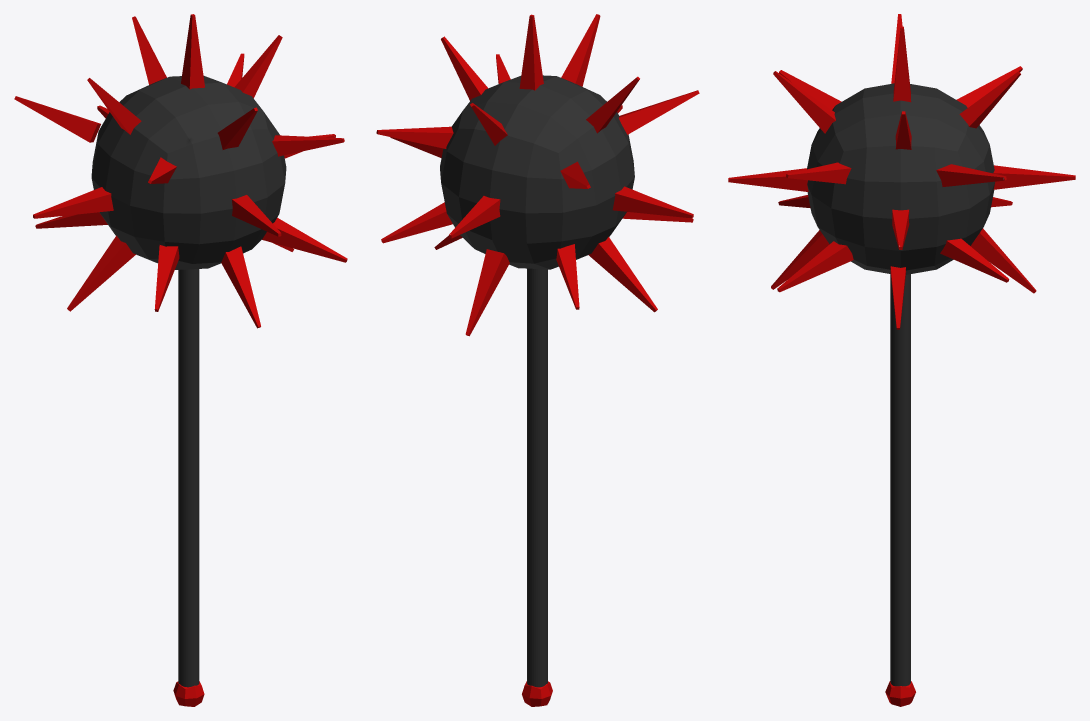
Rendered from boss_weapon.obj.
3 views of the same model, side by side, from view 1: azimuth 30°, elevation 25°; view 2: azimuth 150°, elevation 25°; view 3: azimuth 270°, elevation 25° (orthographic).
Visible parts, largest first — view 1: Cube, Cylinder, Cube.016, Cube.014, Cube.022, Cube.010, Cube.019, Cube.007, Cube.017, Cube.004, Cube.021, Cube.002 (+5 smaller); view 2: Cube, Cylinder, Cube.003, Cube.016, Cube.014, Cube.007, Cube.011, Cube.018, Cube.008, Cube.013, Cube.009, Cube.004 (+5 smaller); view 3: Cube, Cylinder, Cube.022, Cube.009, Cube.003, Cube.008, Cube.013, Cube.002, Cube.006, Cube.018, Cube.017, Cube.007 (+5 smaller).
Boxes of the visible parts, x1,y1,x2,y2 form: Cube: (91, 76, 286, 269); Cylinder: (178, 269, 199, 687); Cube.016: (67, 235, 135, 311); Cube.014: (33, 187, 113, 218); Cube.022: (262, 217, 347, 262); Cube.010: (221, 246, 260, 328); Cube.019: (14, 96, 100, 142); Cube.007: (181, 14, 204, 89); Cube.017: (272, 135, 344, 156); Cube.004: (234, 35, 282, 98); Cube.021: (154, 245, 179, 311); Cube.002: (232, 195, 281, 236); Cube: (440, 75, 634, 269); Cylinder: (527, 268, 547, 687); Cube.003: (465, 249, 509, 336); Cube.016: (588, 237, 657, 312); Cube.014: (612, 186, 693, 218); Cube.007: (519, 14, 543, 90); Cube.011: (619, 90, 699, 134); Cube.018: (376, 126, 453, 148); Cube.008: (561, 14, 600, 86); Cube.013: (381, 202, 452, 243); Cube.009: (449, 196, 500, 238); Cube.004: (441, 36, 488, 100); Cube: (807, 83, 994, 274); Cylinder: (890, 274, 910, 686); Cube.022: (777, 241, 853, 292); Cube.009: (993, 165, 1075, 189); Cube.003: (970, 228, 1036, 293); Cube.008: (773, 71, 835, 133); Cube.013: (940, 238, 1009, 282); Cube.002: (728, 168, 808, 191); Cube.006: (959, 71, 1020, 128); Cube.018: (936, 164, 1006, 186); Cube.017: (786, 162, 851, 184); Cube.007: (893, 26, 911, 102).
Size of the model in its own units: 1.75 by 3.84 by 1.77.
1 material, 1 textured.
